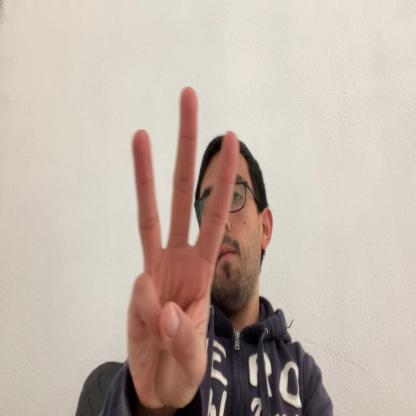W: (126, 84, 239, 415)
